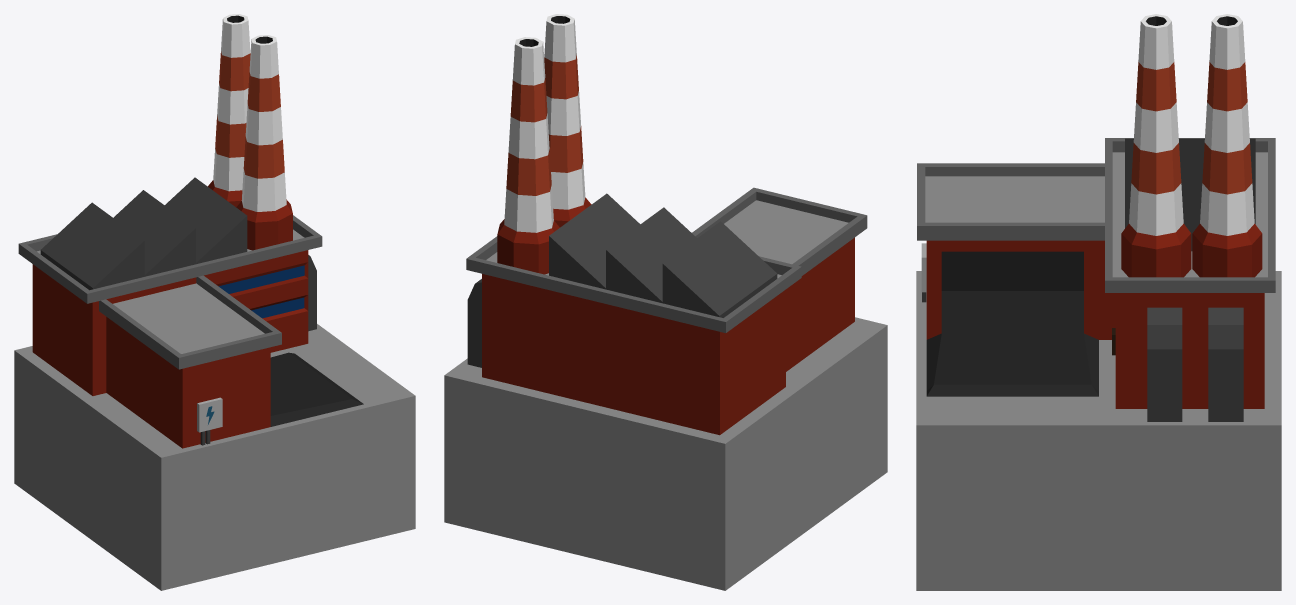
File: Factory.fbx
The picture shows the model from 3 angles, left to right: view 1: azimuth 30°, elevation 25°; view 2: azimuth 150°, elevation 25°; view 3: azimuth 270°, elevation 25°; orthographic projection. The views are drawn at different scales.
Visible parts, largest first — view 1: Cube.002; view 2: Cube.002; view 3: Cube.002.
Boxes of the visible parts, box(x1,y1,x2,y2) form: Cube.002: box(14, 14, 415, 590); Cube.002: box(444, 14, 887, 590); Cube.002: box(916, 14, 1281, 590).
Size of the model in its own units: 200 by 324 by 200.
1 material, 1 textured.
